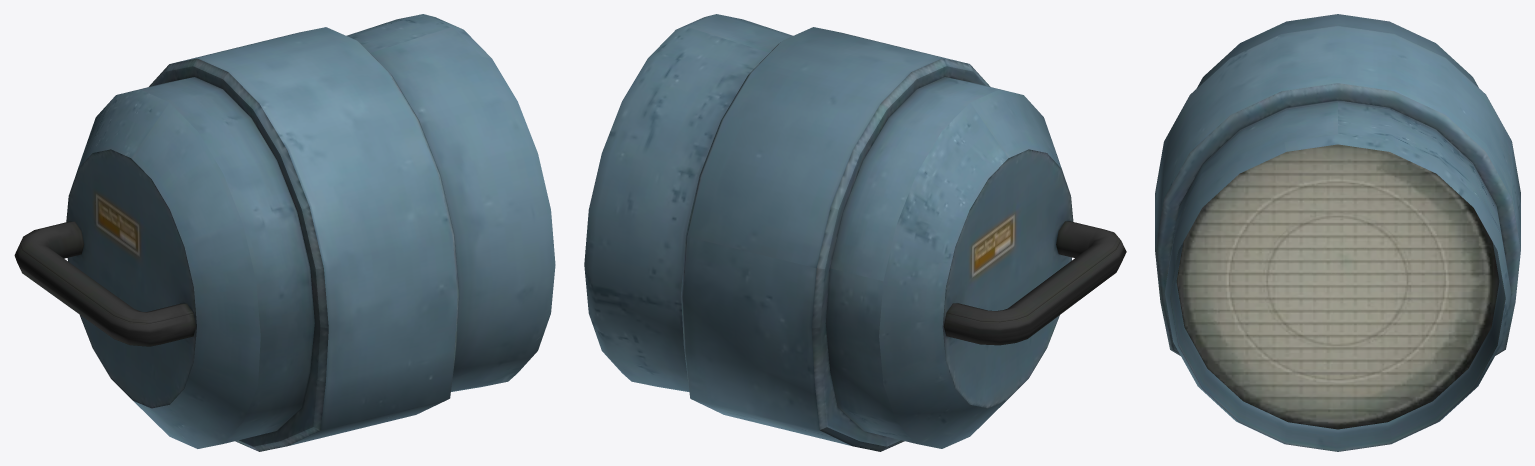
3 views of the same model, side by side, from view 1: azimuth 30°, elevation 25°; view 2: azimuth 150°, elevation 25°; view 3: azimuth 270°, elevation 25° (orthographic). The views are drawn at different scales.
Visible parts, largest first — view 1: body0_model0_lod0_mesh0; view 2: body0_model0_lod0_mesh0; view 3: body0_model0_lod0_mesh0.
Boxes of the visible parts, box(x1,y1,x2,y2) form: body0_model0_lod0_mesh0: box(14, 14, 555, 451); body0_model0_lod0_mesh0: box(584, 14, 1126, 451); body0_model0_lod0_mesh0: box(1155, 14, 1520, 451).
Bounding box in the file's own units: 22.81 × 19.89 × 19.69.
Materials: 1 (1 with a texture image).
